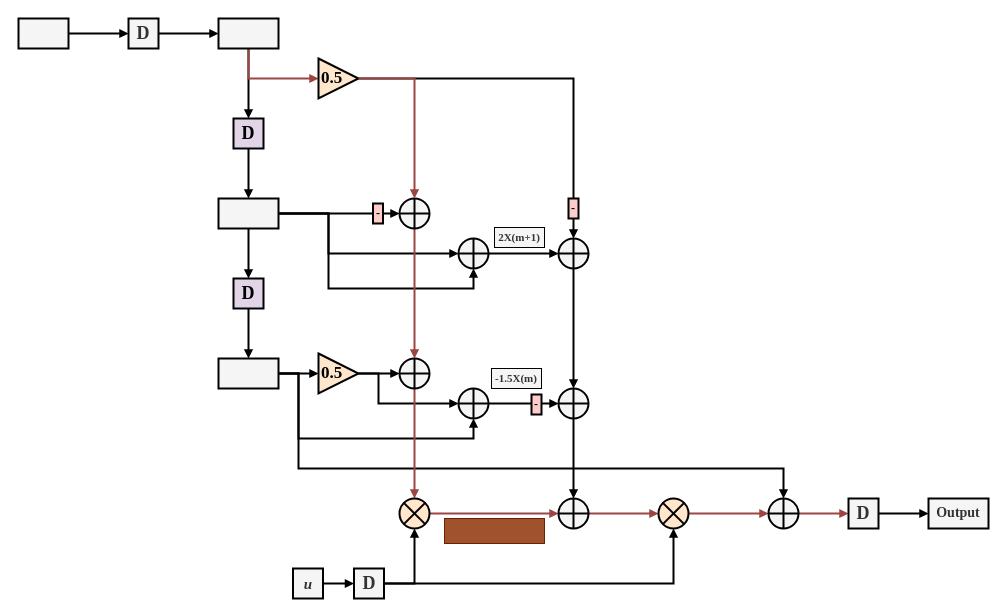
Image size: 1006x616. Some labels were removed from this diagram. Each missing label, with the centre of its shape:
Critical Path: point (494, 531)
Input: point (43, 33)
X(m): point (248, 373)
X(m+1): point (248, 213)
X(m+2): point (248, 33)
